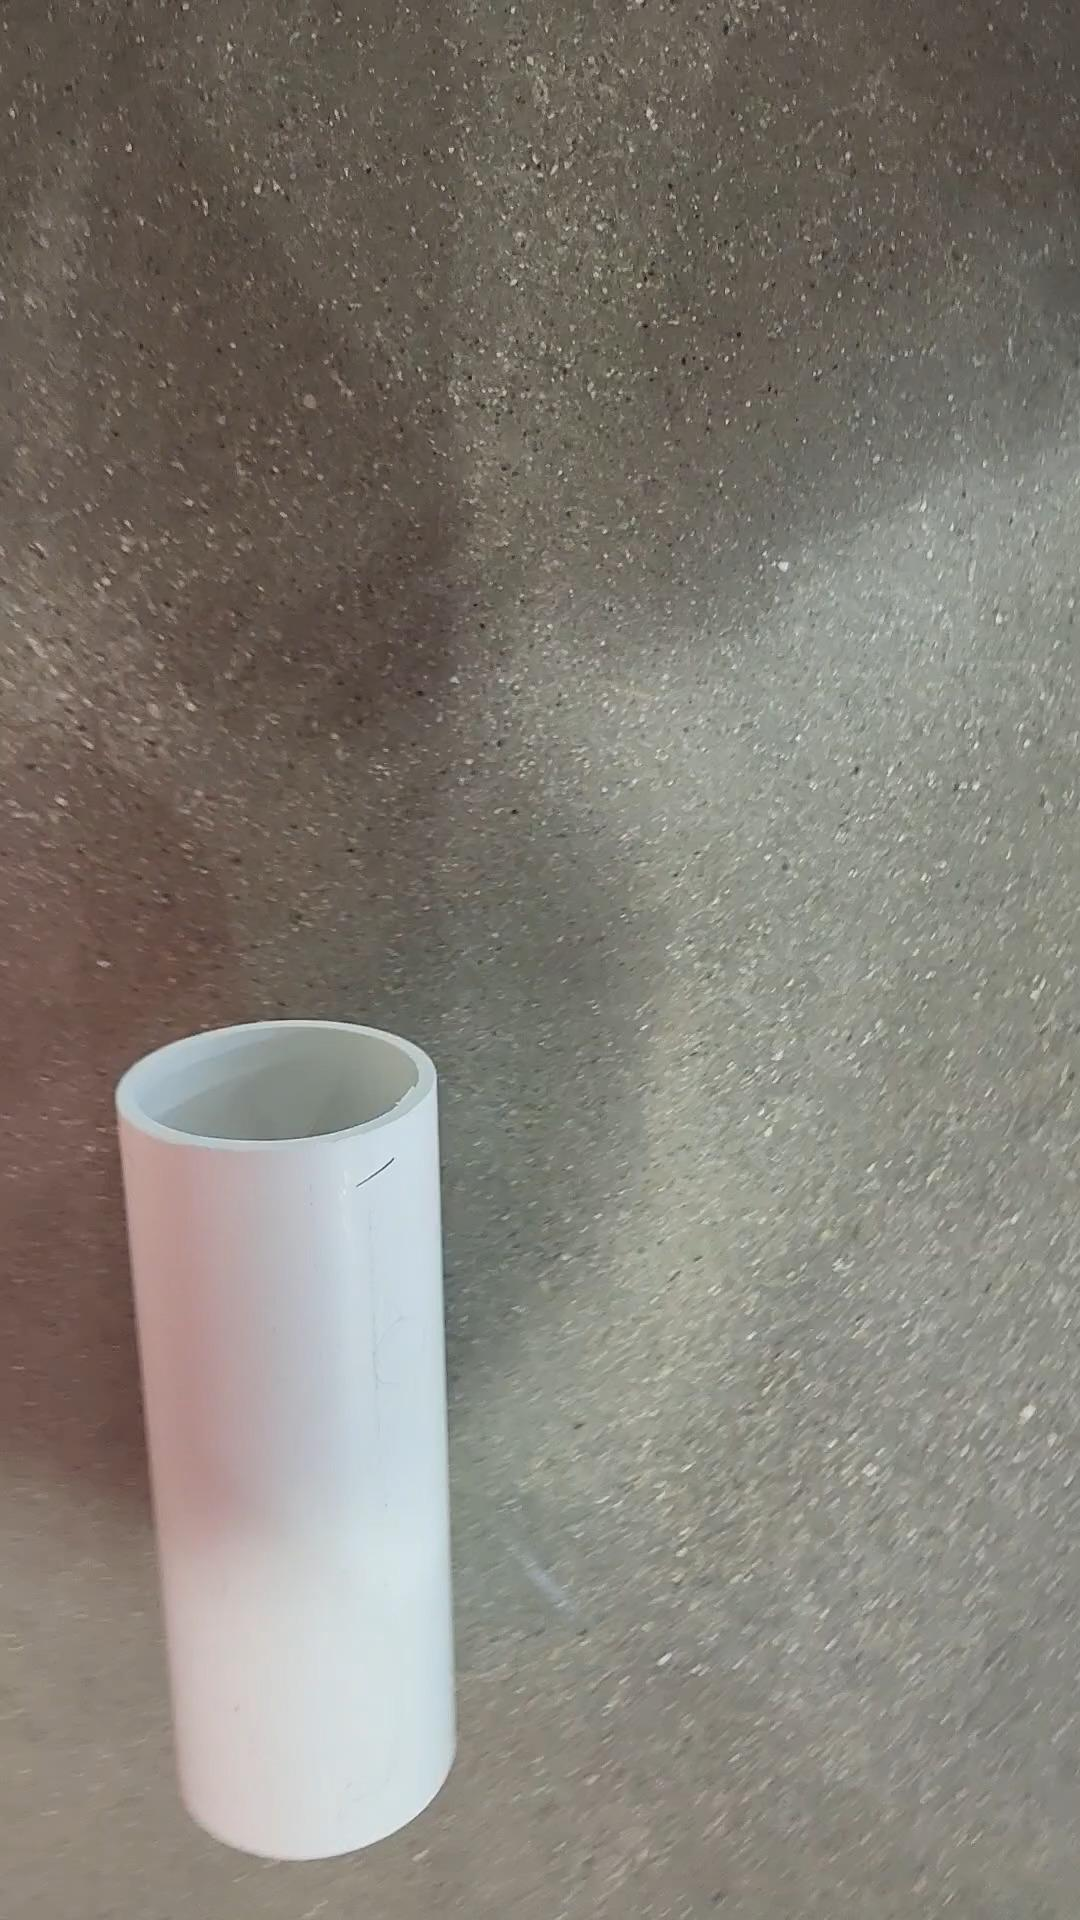coral: (116, 1017, 463, 1854)
